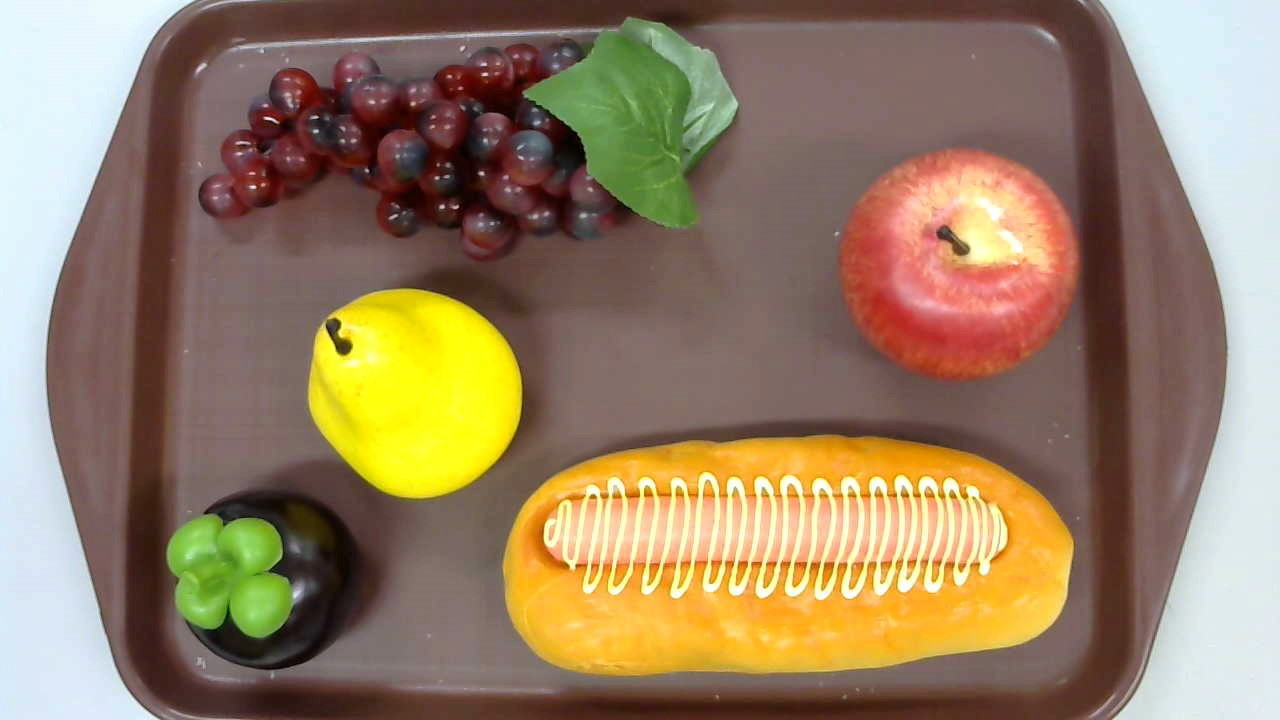grape: (197, 17, 739, 263)
hot dog: (502, 434, 1074, 678)
mangosteen: (165, 487, 364, 671)
red apple: (837, 147, 1081, 385)
yellow pear: (307, 288, 522, 497)
